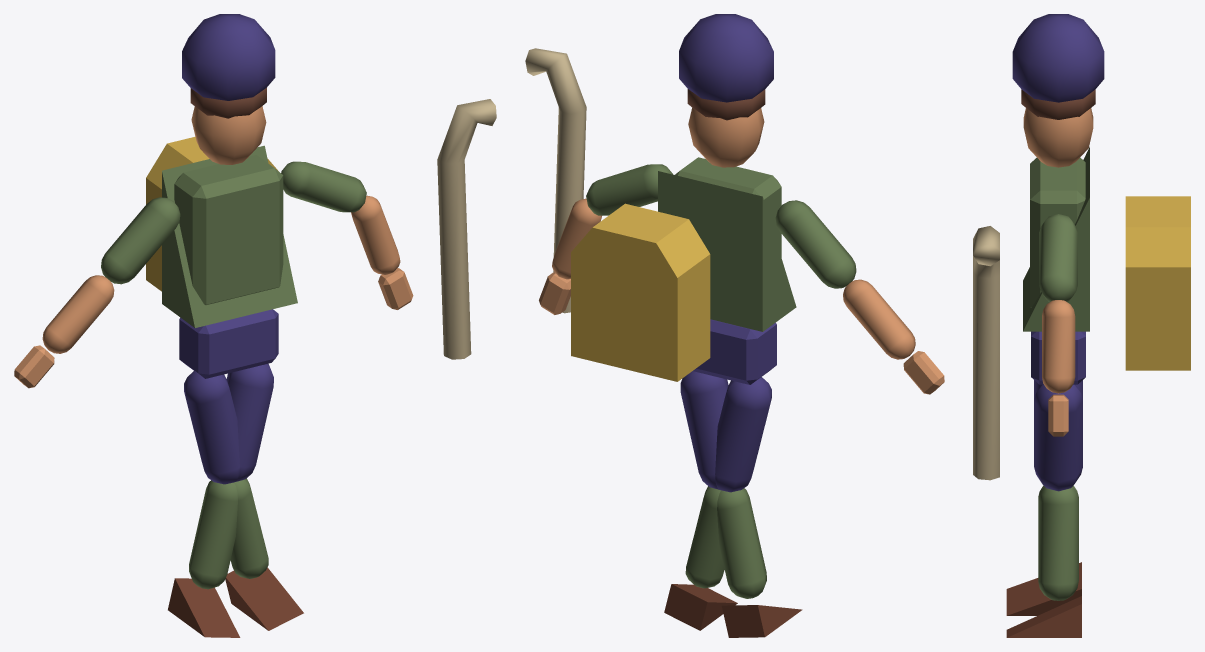
File: adventurer.rustic.glb
The picture shows the model from 3 angles, left to right: view 1: azimuth 30°, elevation 25°; view 2: azimuth 150°, elevation 25°; view 3: azimuth 270°, elevation 25°; orthographic projection.
Visible parts, largest first — view 1: torso, accessory.main-hand, accessory.head, tunic, pelvis, thigh.left, shin.right, upper-arm.left, thigh.right, head, upper-arm.right, forearm.left (+8 smaller); view 2: accessory.back, tunic, accessory.head, accessory.main-hand, thigh.left, shin.right, upper-arm.left, pelvis, thigh.right, head, forearm.left, upper-arm.right (+8 smaller); view 3: accessory.back, accessory.main-hand, accessory.head, shin.left, thigh.right, torso, upper-arm.right, head, forearm.right, tunic, foot.left, foot.right (+3 smaller).
Part boxes in pixels (<box>): torso: <box>174,155,283,304</box>; accessory.main-hand: <box>437,99,496,359</box>; accessory.head: <box>182,14,275,100</box>; tunic: <box>162,145,297,327</box>; pelvis: <box>179,309,278,378</box>; thigh.left: <box>184,371,239,484</box>; shin.right: <box>189,480,237,589</box>; upper-arm.left: <box>101,197,180,284</box>; thigh.right: <box>226,364,273,481</box>; head: <box>191,106,266,164</box>; upper-arm.right: <box>281,161,366,212</box>; forearm.left: <box>42,275,114,353</box>; accessory.back: <box>571,203,710,381</box>; tunic: <box>658,171,796,331</box>; accessory.head: <box>679,14,773,102</box>; accessory.main-hand: <box>525,48,586,313</box>; thigh.left: <box>715,377,771,492</box>; shin.right: <box>717,488,766,598</box>; upper-arm.left: <box>775,200,856,288</box>; pelvis: <box>693,319,776,384</box>; thigh.right: <box>680,371,728,489</box>; head: <box>688,107,764,167</box>; forearm.left: <box>843,279,915,359</box>; upper-arm.right: <box>586,164,672,215</box>; accessory.back: <box>1125,196,1190,370</box>; accessory.main-hand: <box>973,226,999,480</box>; accessory.head: <box>1012,14,1104,102</box>; shin.left: <box>1038,486,1078,600</box>; thigh.right: <box>1034,384,1082,491</box>; torso: <box>1030,157,1085,307</box>; upper-arm.right: <box>1039,214,1077,301</box>; head: <box>1023,108,1093,167</box>; forearm.right: <box>1042,300,1075,393</box>; tunic: <box>1023,147,1089,331</box>; foot.left: <box>1006,596,1081,637</box>; foot.right: <box>1006,562,1081,615</box>.
Bounding box in the file's own units: 2.52 × 3.28 × 1.07.
